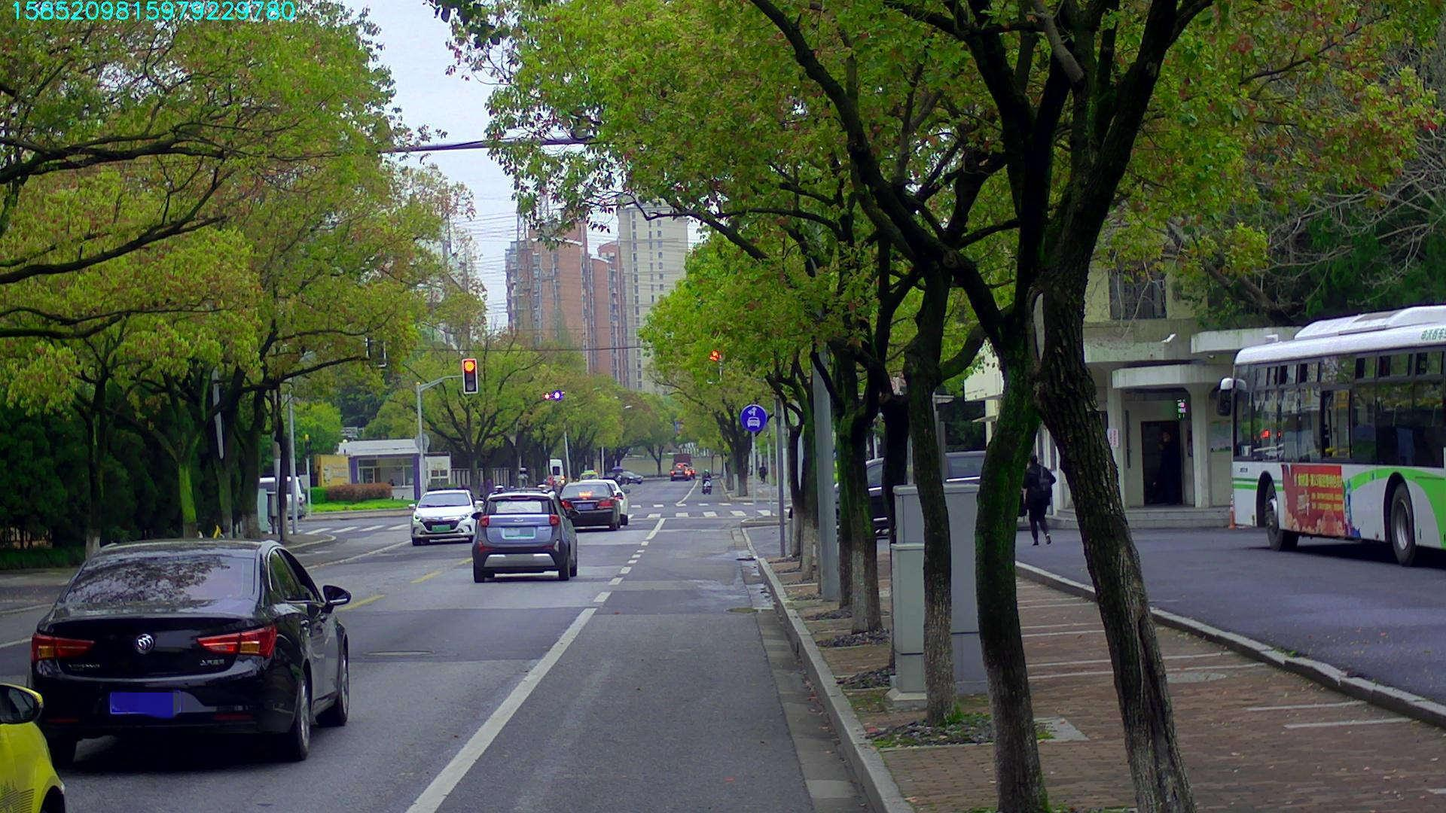red: (462, 358, 477, 392), (707, 351, 721, 380)
